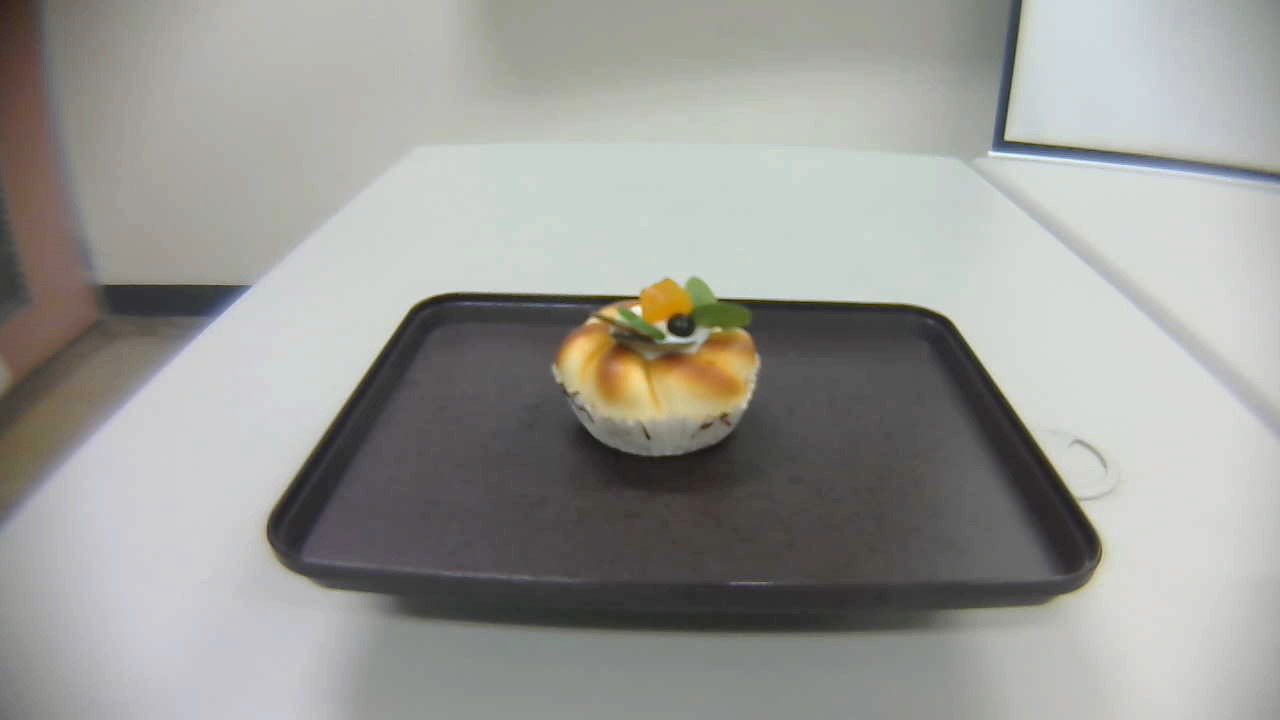fruit tart: (551, 276, 762, 454)
